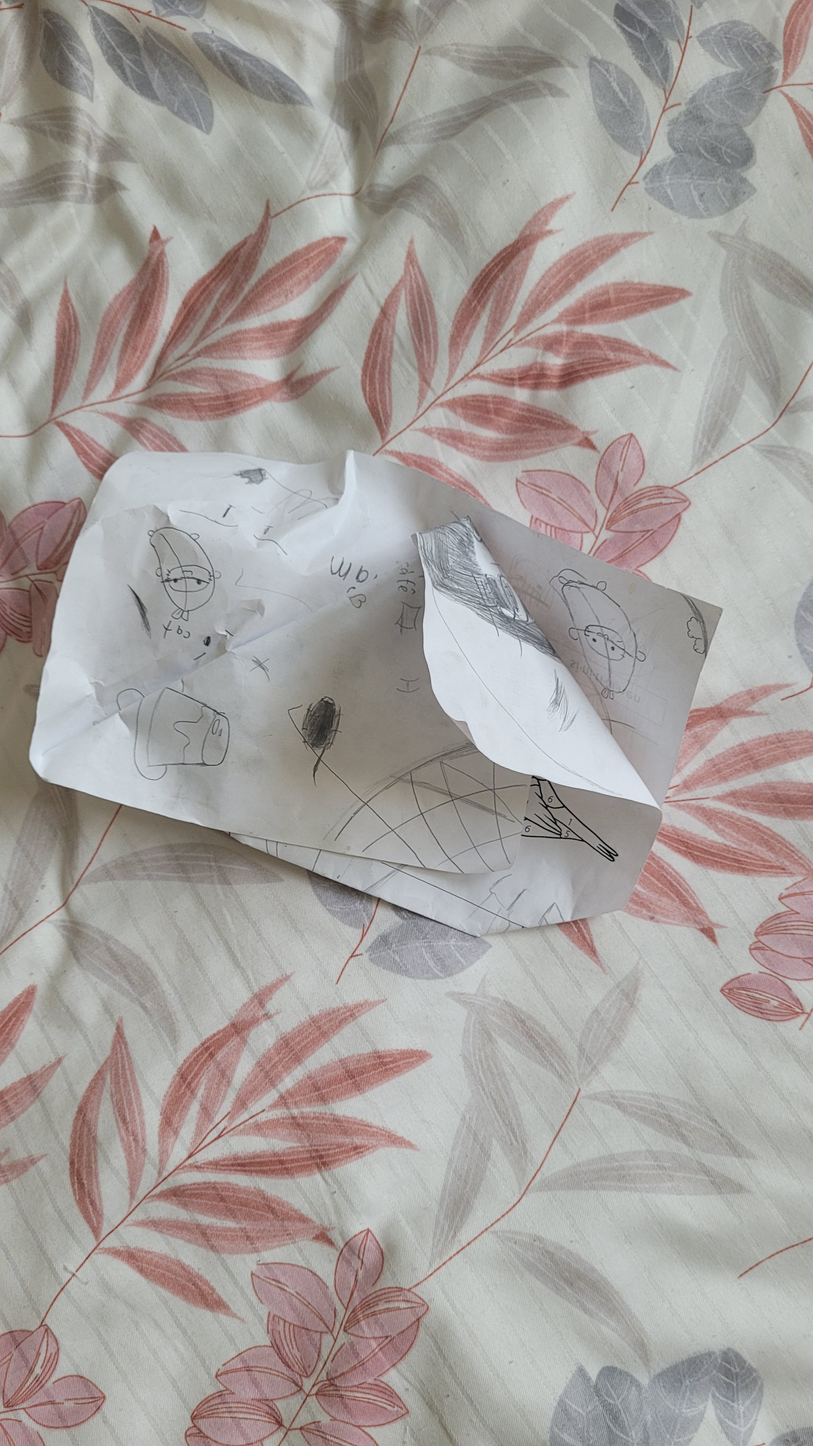paper: (22, 420, 731, 942)
